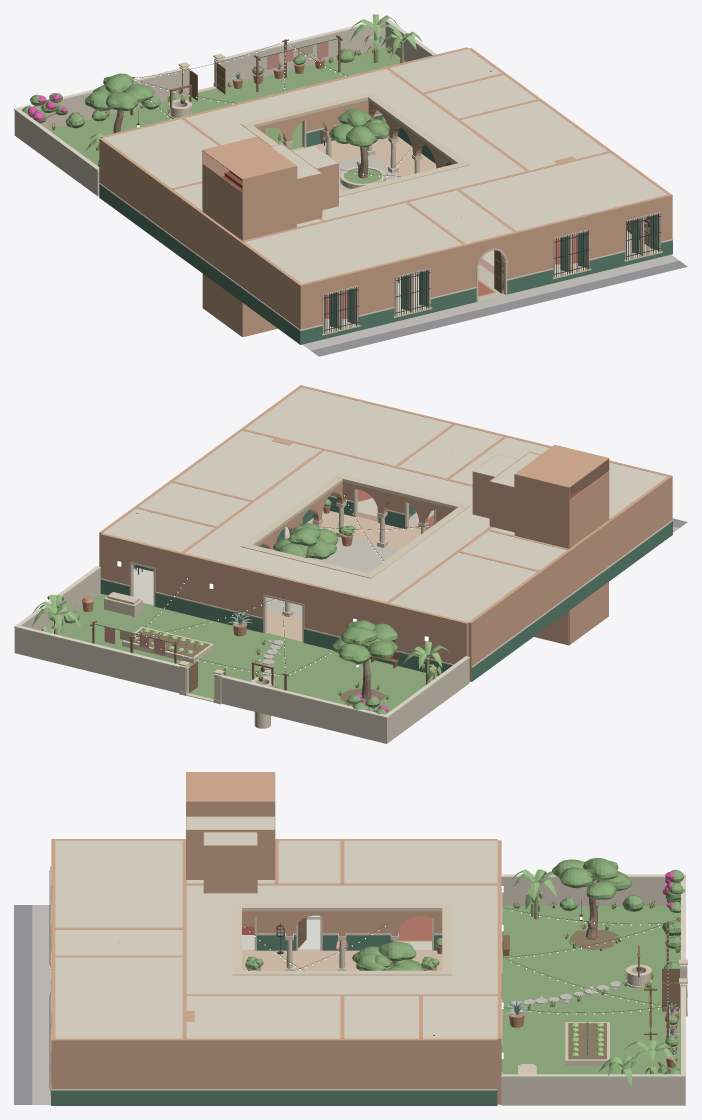
3 renders of one model, top to bottom at view 1: azimuth 30°, elevation 25°; view 2: azimuth 150°, elevation 25°; view 3: azimuth 270°, elevation 25°, orthographic. The views are drawn at different scales.
Visible parts, largest first — view 1: pb_techo, pb_muro_h0_0, pb_escalera_arriba, pb_muro_v0_0, pb_piso_pasto, pb_muro_h0_0_rej, pb_muro_h0_0_lam, pb_piso_banqueta, pb_piso_calle, pb_muro_h0_0_can, pb_muro_bh480_195, pb_muro_v0_0_lam (+24 smaller); view 2: pb_techo, pb_muro_h340_0, pb_piso_pasto, pb_escalera_arriba, pb_muro_v0_0, pb_muro_bh480_195, pb_muro_bh480_0, pb_muro_v0_0_lam, pb_muro_h340_0_lam, pb_piso_corredor, pb_mamey_copa, pb_muro_bv0_340 (+23 smaller); view 3: pb_techo, pb_muro_v360_0, pb_piso_pasto, pb_escalera_arriba, pb_muro_v360_0_lam, pb_muro_bv360_340, pb_piso_calle, pb_piso_banqueta, pb_muro_bv0_340, pb_piso_corredor, pb_mamey_copa, pb_dintel_v120 (+27 smaller).
Part boxes in pixels (x1=…): pb_techo: x1=103, y1=49, x2=666, y2=283; pb_muro_h0_0: x1=299, y1=194, x2=672, y2=329; pb_escalera_arriba: x1=202, y1=136, x2=338, y2=237; pb_muro_v0_0: x1=99, y1=138, x2=301, y2=328; pb_piso_pasto: x1=48, y1=47, x2=405, y2=165; pb_muro_h0_0_rej: x1=323, y1=212, x2=661, y2=333; pb_muro_h0_0_lam: x1=298, y1=240, x2=672, y2=344; pb_piso_banqueta: x1=303, y1=254, x2=679, y2=350; pb_piso_calle: x1=311, y1=260, x2=687, y2=356; pb_muro_h0_0_can: x1=321, y1=212, x2=662, y2=335; pb_muro_bh480_195: x1=214, y1=21, x2=385, y2=87; pb_muro_v0_0_lam: x1=99, y1=184, x2=298, y2=342; pb_techo: x1=103, y1=387, x2=667, y2=622; pb_muro_h340_0: x1=100, y1=533, x2=468, y2=664; pb_piso_pasto: x1=58, y1=593, x2=436, y2=712; pb_escalera_arriba: x1=472, y1=444, x2=609, y2=545; pb_muro_v0_0: x1=468, y1=476, x2=670, y2=681; pb_muro_bh480_195: x1=14, y1=628, x2=188, y2=694; pb_muro_bh480_0: x1=221, y1=678, x2=388, y2=743; pb_muro_v0_0_lam: x1=471, y1=523, x2=670, y2=681; pb_muro_h340_0_lam: x1=100, y1=579, x2=452, y2=675; pb_piso_corredor: x1=266, y1=510, x2=420, y2=641; pb_mamey_copa: x1=332, y1=620, x2=397, y2=663; pb_muro_bv0_340: x1=388, y1=658, x2=469, y2=742; pb_techo: x1=55, y1=840, x2=497, y2=1038; pb_muro_v360_0: x1=55, y1=1038, x2=497, y2=1105; pb_piso_pasto: x1=499, y1=906, x2=680, y2=1104; pb_escalera_arriba: x1=186, y1=772, x2=275, y2=893; pb_muro_v360_0_lam: x1=55, y1=1090, x2=497, y2=1105; pb_muro_bv360_340: x1=501, y1=1075, x2=681, y2=1105; pb_piso_calle: x1=14, y1=905, x2=32, y2=1104; pb_piso_banqueta: x1=32, y1=905, x2=50, y2=1104; pb_muro_bv0_340: x1=501, y1=876, x2=667, y2=905; pb_piso_corredor: x1=242, y1=949, x2=442, y2=970; pb_mamey_copa: x1=552, y1=858, x2=631, y2=899; pb_dintel_v120: x1=242, y1=911, x2=442, y2=936.
Size of the model in its own units: 36.8 by 15.07 by 51.34.
